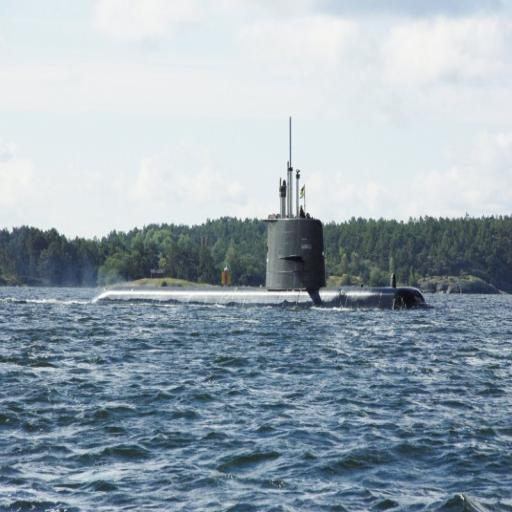submarine: (98, 114, 433, 312)
